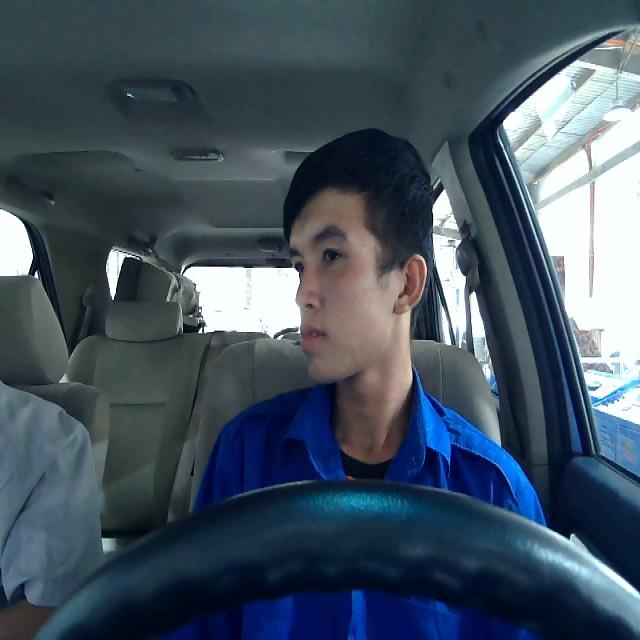seeing_left: (285, 177, 427, 383)
